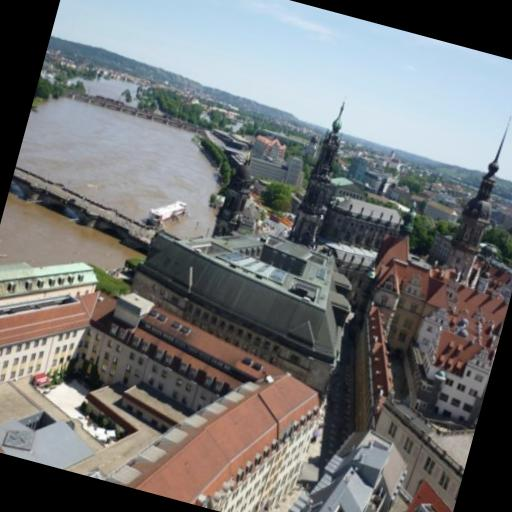flood: (16, 96, 217, 237), (0, 194, 140, 268), (83, 79, 136, 98)
house: (97, 333, 337, 512), (122, 203, 364, 368), (66, 284, 272, 425), (0, 237, 102, 417), (273, 411, 415, 512), (411, 278, 510, 400), (313, 184, 412, 262), (244, 147, 306, 187), (250, 132, 286, 160), (360, 168, 396, 196), (422, 199, 458, 222)
